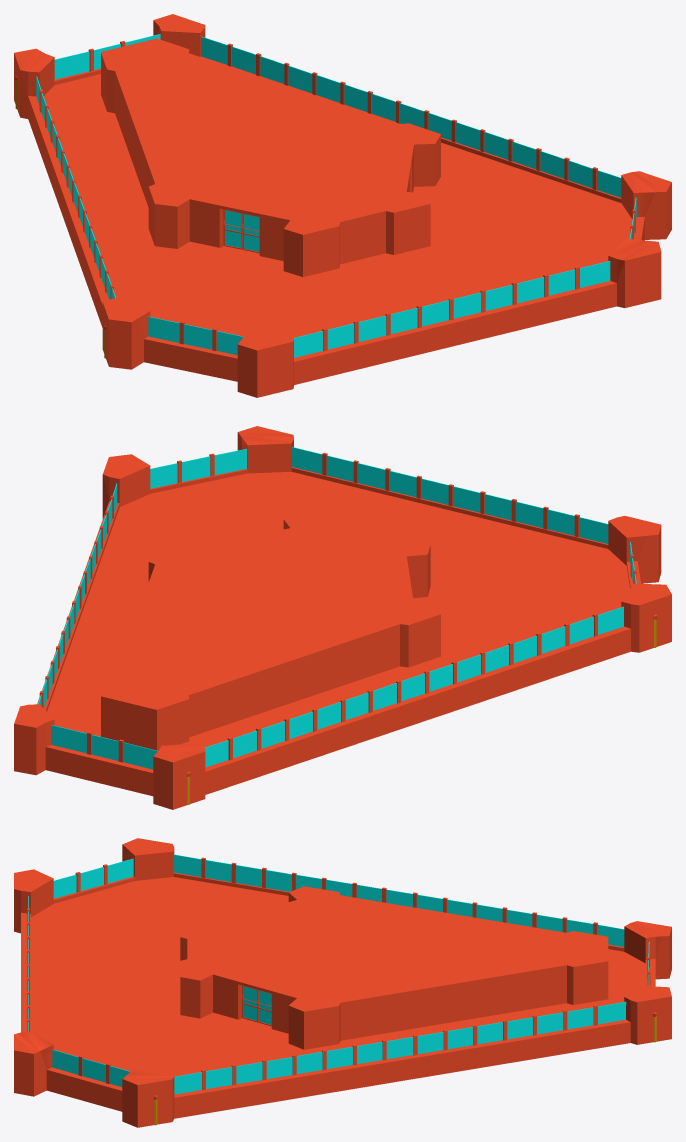
File: SM_Skyscraper_C_Setback_City.fbx
The picture shows the model from 3 angles, top to bottom: view 1: azimuth 30°, elevation 25°; view 2: azimuth 150°, elevation 25°; view 3: azimuth 270°, elevation 25°; orthographic projection. The views are drawn at different scales.
Visible parts, largest first — view 1: SM_Skyscraper_C_Setback_City; view 2: SM_Skyscraper_C_Setback_City; view 3: SM_Skyscraper_C_Setback_City.
Part boxes in pixels (left/top/right/bottom): SM_Skyscraper_C_Setback_City: left=14, top=14, right=671, bottom=397; SM_Skyscraper_C_Setback_City: left=14, top=426, right=671, bottom=809; SM_Skyscraper_C_Setback_City: left=14, top=838, right=671, bottom=1127.
Bounding box in the file's own units: 30.64 × 3.2 × 34.49.
